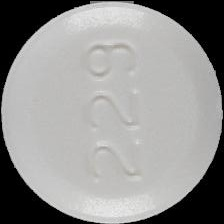52544-228: (0, 0, 224, 224)
